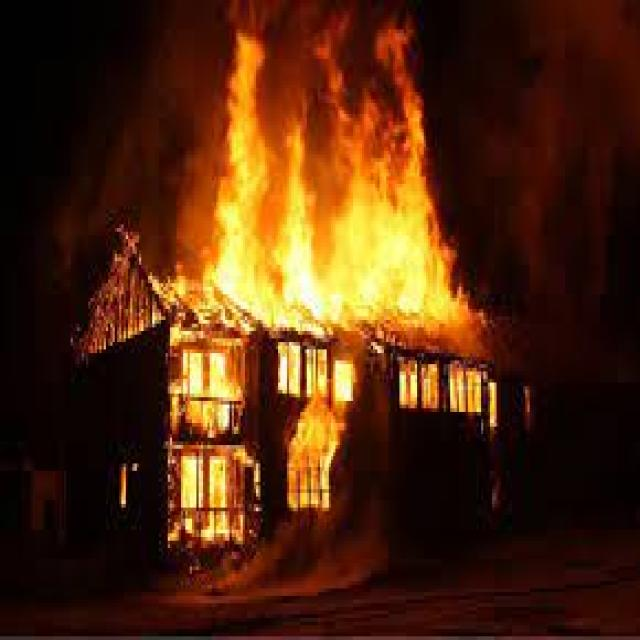fire: (59, 226, 544, 575), (205, 22, 468, 326)
